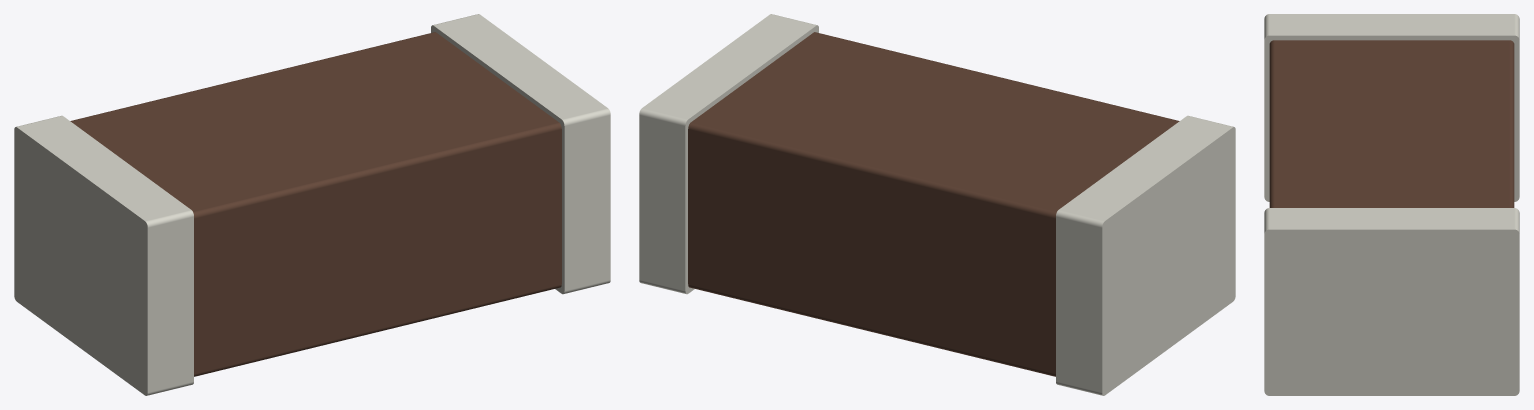
The model's file is C_2010_5025Metric.glb.
The picture shows the model from 3 angles, left to right: view 1: azimuth 30°, elevation 25°; view 2: azimuth 150°, elevation 25°; view 3: azimuth 270°, elevation 25°; orthographic projection. The views are drawn at different scales.
Parts seen in each view (by area): view 1: =>[0:1:1:3]; view 2: =>[0:1:1:3]; view 3: =>[0:1:1:3].
Part boxes in pixels (x1,y1,x2,y2): =>[0:1:1:3]: (14,14,610,395); =>[0:1:1:3]: (639,14,1235,395); =>[0:1:1:3]: (1264,14,1519,395).
Size of the model in its own units: 0.005 by 0.0018 by 0.0025.
